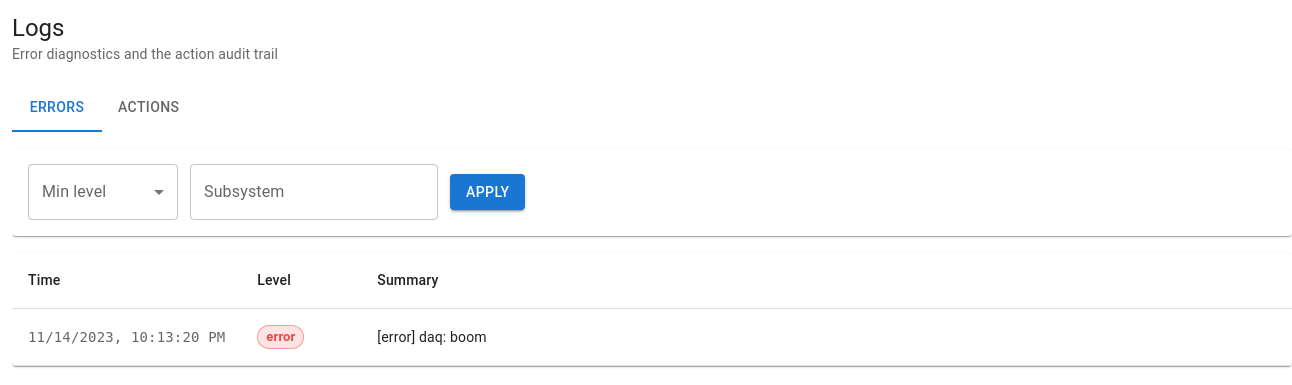
Test: Logs viewer › loads errors then switches to actions
Expected: the text "[error] daq: boom" is shown, x1=361 y1=308 x2=1291 y2=366
Step 1. Click the tab "Actions" → (149, 108), box x1=102 y1=84 x2=196 y2=132
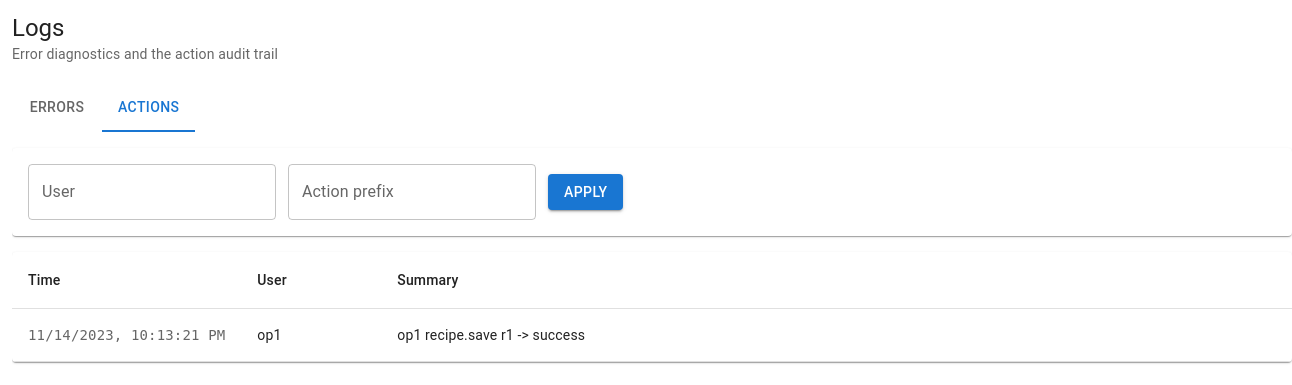
Expected: the text "op1 recipe.save r1 -> success" is shown, x1=381 y1=308 x2=1291 y2=362
Expected: the text "op1" is shown, x1=241 y1=308 x2=381 y2=362
